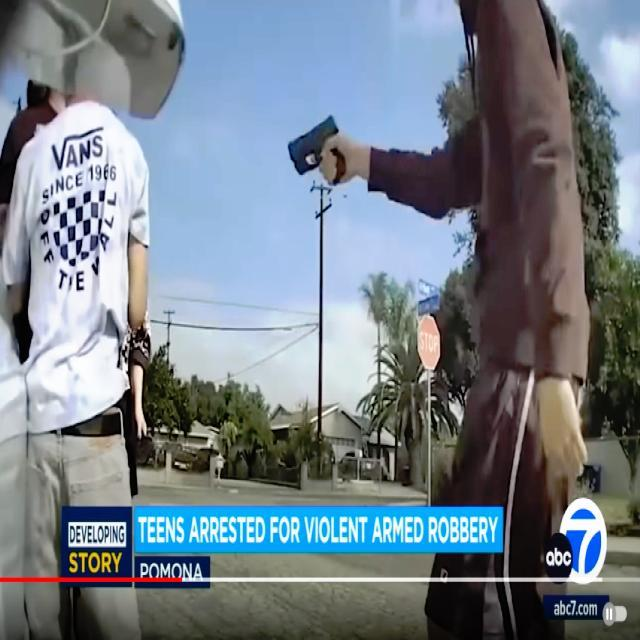Gun: (276, 113, 368, 189)
